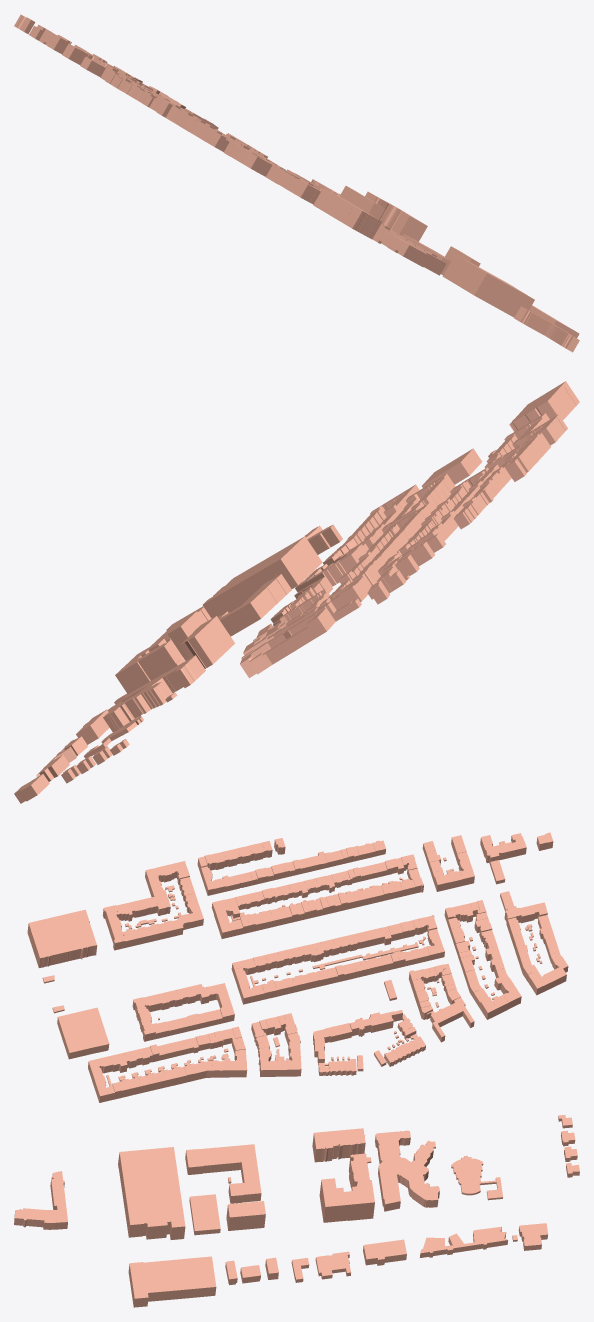
3 views of the same model, one above another, from view 1: azimuth 30°, elevation 25°; view 2: azimuth 150°, elevation 25°; view 3: azimuth 270°, elevation 25° (orthographic). The views are drawn at different scales.
Size of the model in its own units: 494 by 358 by 620.
